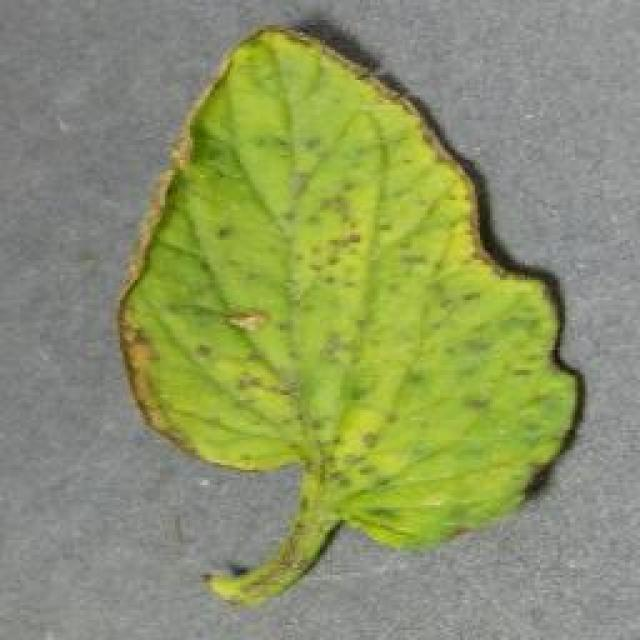Tomato___Bacterial_spot: (119, 23, 587, 609)
